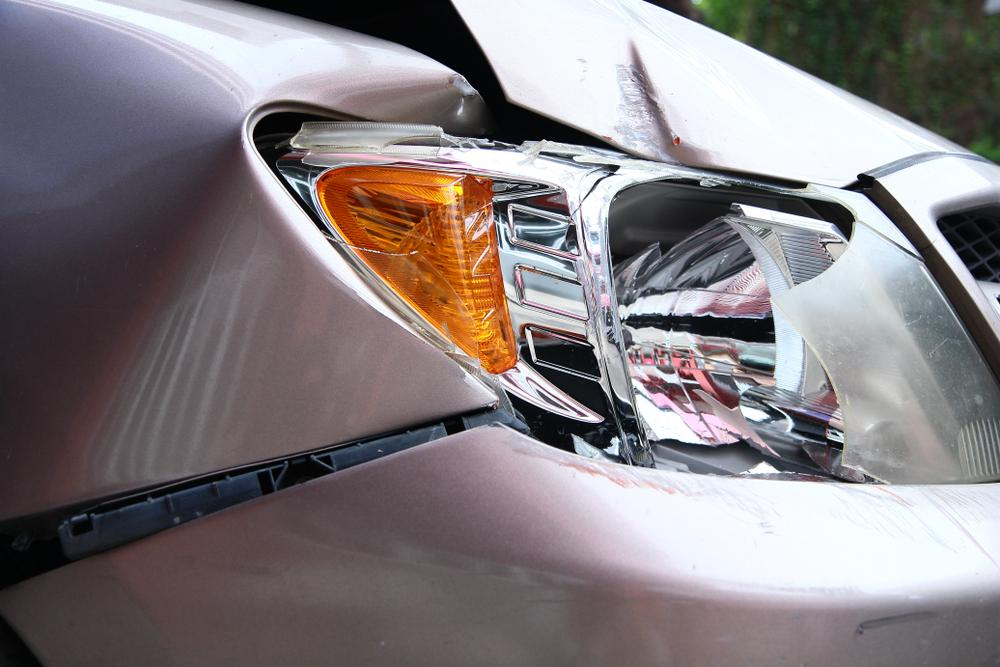dent: (0, 0, 244, 516), (532, 32, 708, 164)
lamp broken: (273, 106, 1000, 494)
scratch: (511, 432, 1000, 553), (766, 572, 940, 637)
